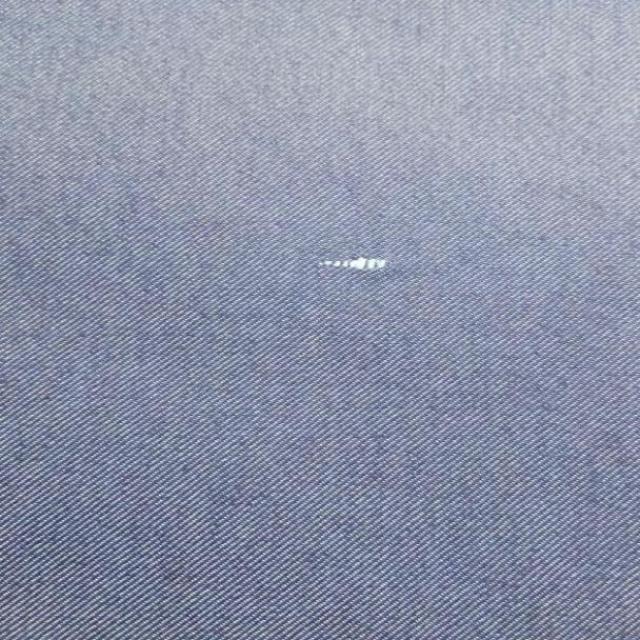Knot: (320, 257, 387, 270)
